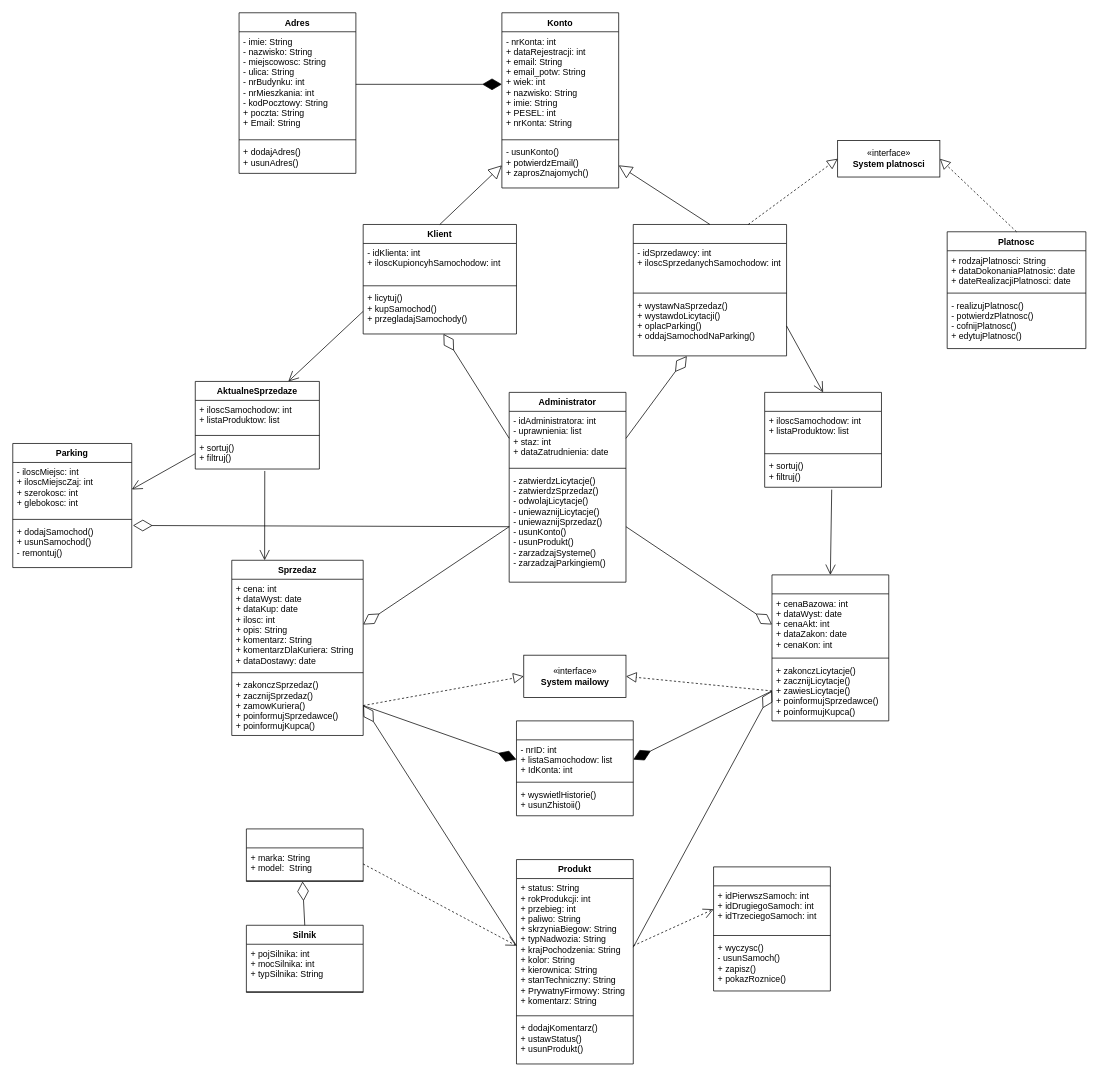
The diagram is 1099 pixels wide and 1079 high, and some of its shapes have lost their labels. Here are the shapes that lost their labels. From the top down, the box of each, then its label:
(633, 224, 787, 356): Sprzedawca
(764, 392, 881, 487): AktualneLicytacje
(771, 574, 889, 721): Licytacja
(516, 720, 633, 816): Historia
(246, 828, 363, 881): Samochod
(713, 866, 830, 991): Porownywarka
